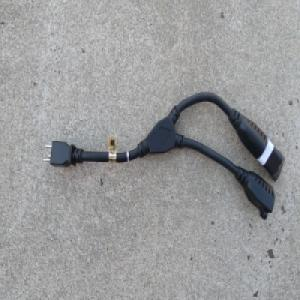Wire: (41, 90, 285, 221)
